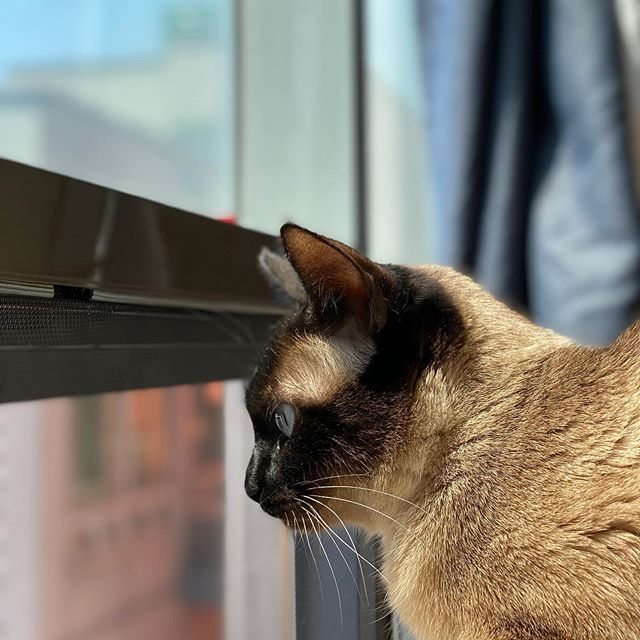cat: (225, 220, 503, 546)
